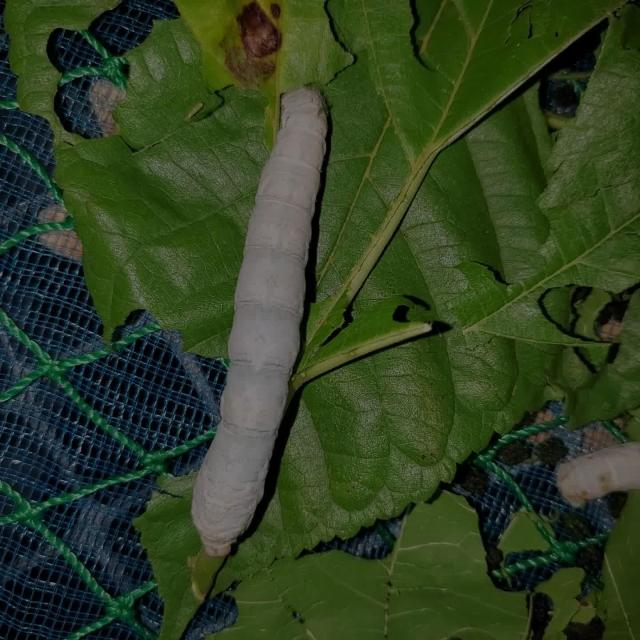Healthy: (178, 70, 350, 568)
